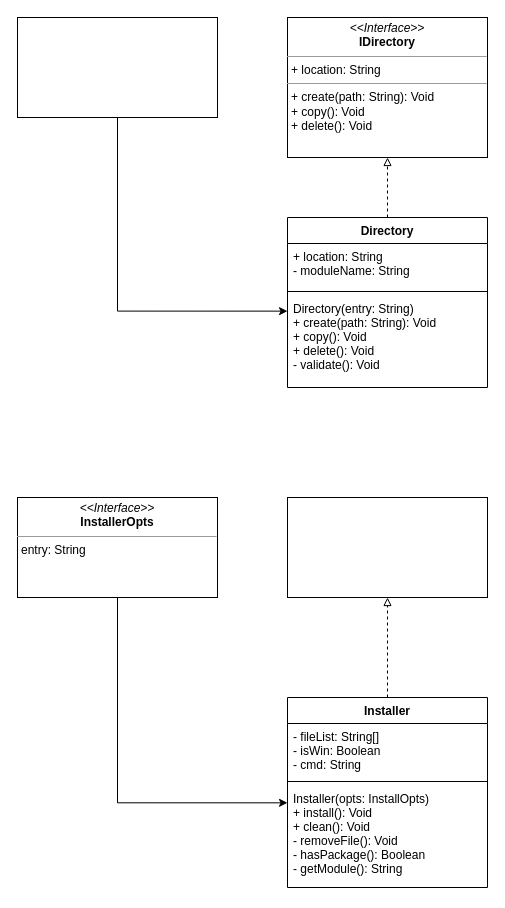
Image size: 505x908. Some labels were removed from this diagram. Here are the shapes that lost their labels. From the top down, the centre of each, then its label:
the point at 117,67: <<Interface>> DirectoryOpts entry: String outdir: String prefix?: String
the point at 387,547: <<Interface>> IInstaller + installer(): Void + clean(): Void
